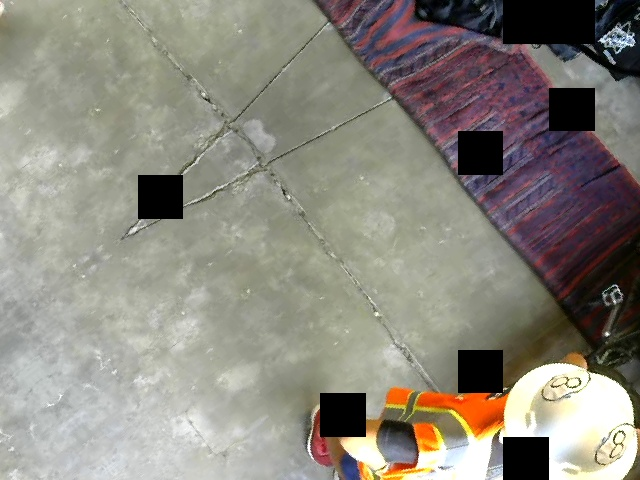eight: (533, 357, 596, 412)
